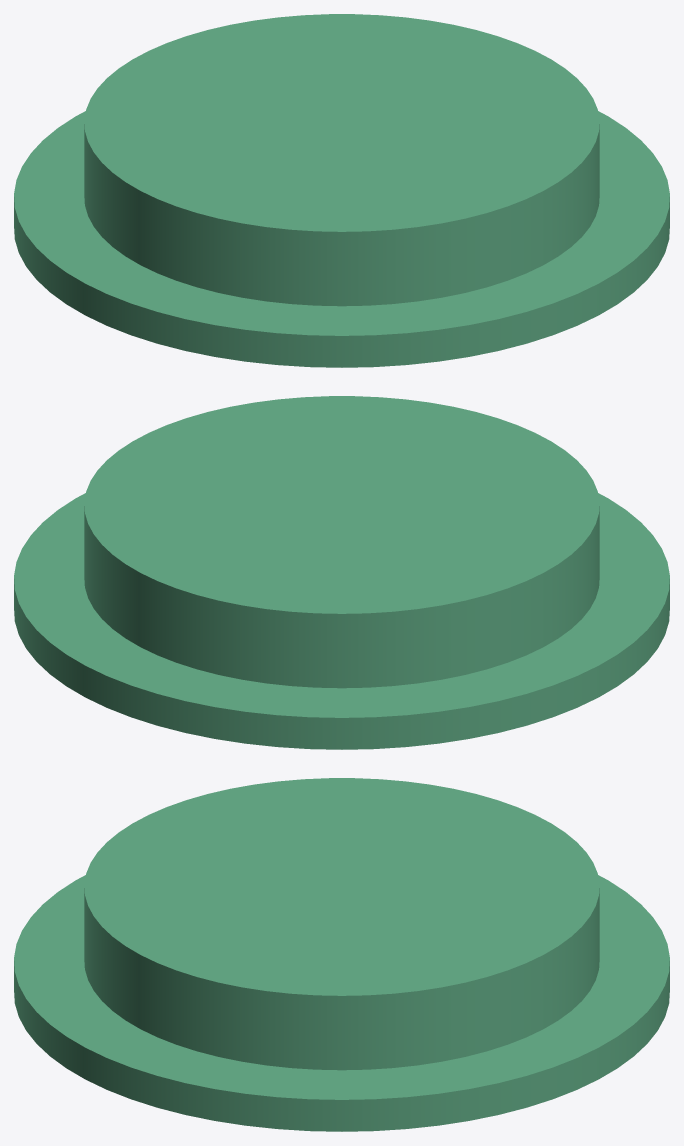
File: step_02.glb
The picture shows the model from 3 angles, top to bottom: view 1: azimuth 30°, elevation 25°; view 2: azimuth 150°, elevation 25°; view 3: azimuth 270°, elevation 25°; orthographic projection.
Parts seen in each view (by area): view 1: part__PRESS HERE button; view 2: part__PRESS HERE button; view 3: part__PRESS HERE button.
Part boxes in pixels (x1=…): part__PRESS HERE button: x1=14, y1=14, x2=669, y2=367; part__PRESS HERE button: x1=14, y1=396, x2=669, y2=749; part__PRESS HERE button: x1=14, y1=778, x2=669, y2=1131.
Size of the model in its own units: 27.98 by 5 by 27.99.
